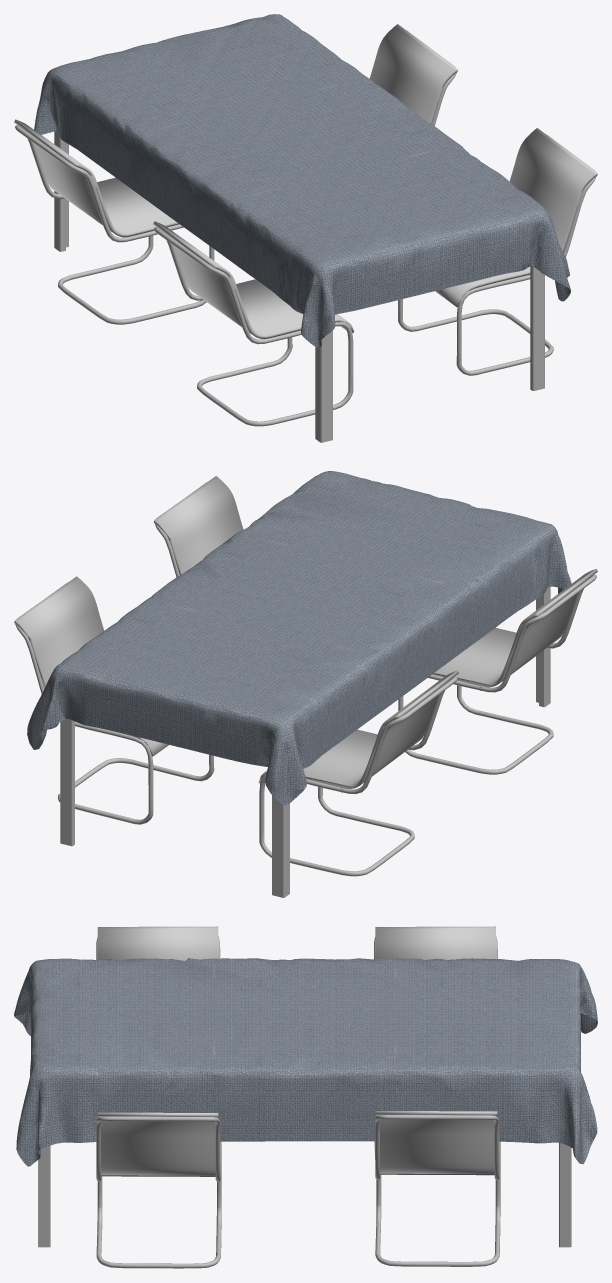
Rendered from KitchenTable.FBX.
The picture shows the model from 3 angles, top to bottom: view 1: azimuth 30°, elevation 25°; view 2: azimuth 150°, elevation 25°; view 3: azimuth 270°, elevation 25°; orthographic projection.
Visible parts, largest first — view 1: cloth, chair4, chair2, chair3, chair1, legs; view 2: cloth, chair3, chair4, chair1, chair2, legs; view 3: cloth, chair2, chair1, chair4, chair3, legs.
Boxes of the visible parts, <box> form: cloth: <box>34,14,570,347</box>; chair4: <box>153,221,353,426</box>; chair2: <box>398,128,597,375</box>; chair3: <box>14,119,214,324</box>; chair1: <box>369,24,457,125</box>; legs: <box>54,131,544,442</box>; cloth: <box>27,471,571,804</box>; chair3: <box>258,670,458,876</box>; chair4: <box>398,568,597,774</box>; chair1: <box>14,576,214,824</box>; chair2: <box>153,476,243,577</box>; legs: <box>60,586,550,897</box>; cloth: <box>14,958,597,1166</box>; chair2: <box>96,1112,221,1268</box>; chair1: <box>375,1111,500,1266</box>; chair4: <box>96,926,220,960</box>; chair3: <box>374,926,497,1159</box>; legs: <box>38,1143,571,1247</box>.
Bounding box in the file's own units: 489 × 632 × 214.
